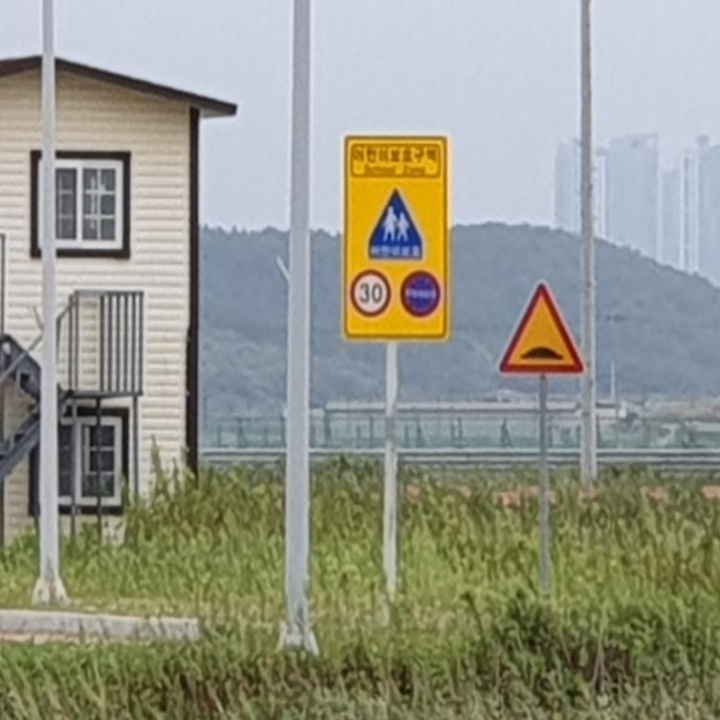bump: (498, 278, 584, 373)
child: (375, 197, 417, 250)
